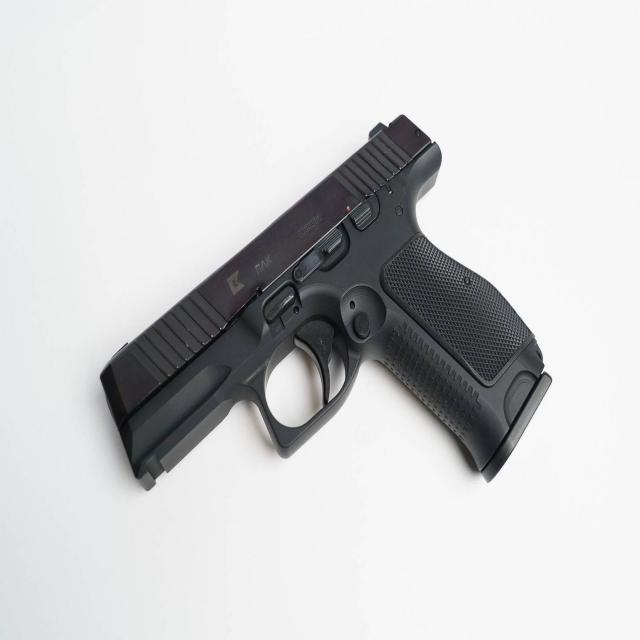pistol: (99, 114, 552, 514)
